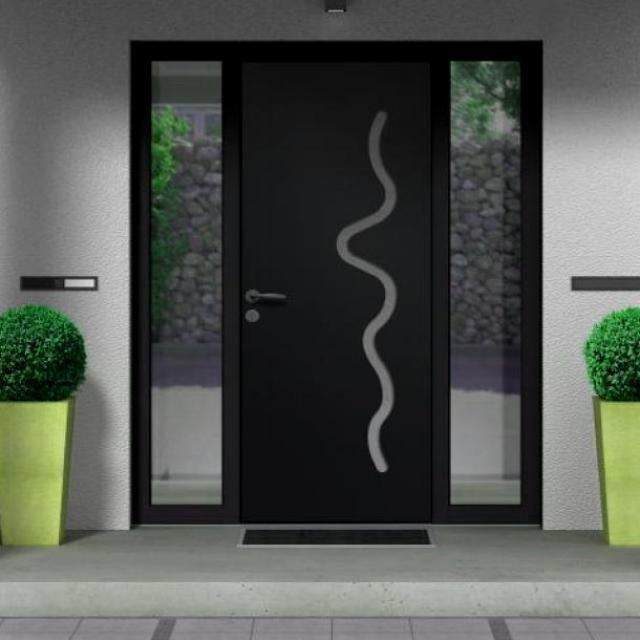door: (237, 56, 434, 524)
